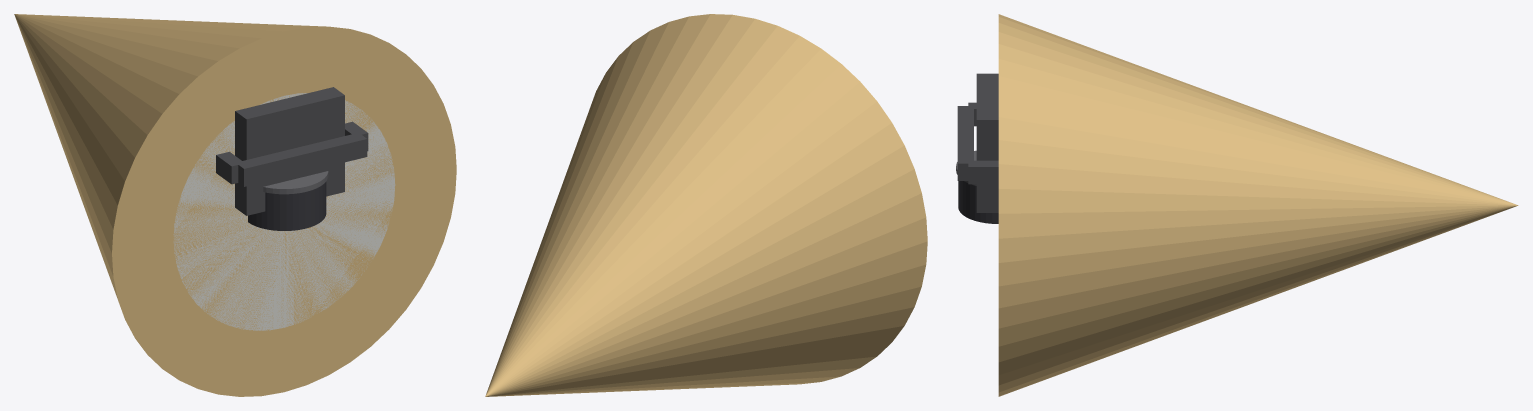
Rendered from moving-head-full.glb.
3 views of the same model, side by side, from view 1: azimuth 30°, elevation 25°; view 2: azimuth 150°, elevation 25°; view 3: azimuth 270°, elevation 25° (orthographic). The views are drawn at different scales.
Visible parts, largest first — view 1: beam_glow, beam, fix_geometry_17, fix_geometry_14, fix_geometry_22, fix_geometry_23, fix_geometry_10; view 2: beam_glow; view 3: beam_glow, fix_geometry_17, fix_geometry_14, fix_geometry_22, fix_geometry_12.
Boxes of the visible parts, x1,y1,x2,y2 form: beam_glow: [14, 14, 456, 396]; beam: [173, 93, 395, 330]; fix_geometry_17: [235, 87, 344, 215]; fix_geometry_14: [238, 133, 367, 186]; fix_geometry_22: [248, 182, 326, 228]; fix_geometry_23: [263, 171, 328, 194]; fix_geometry_10: [216, 151, 244, 184]; beam_glow: [485, 14, 927, 396]; beam_glow: [998, 14, 1518, 396]; fix_geometry_17: [976, 73, 998, 212]; fix_geometry_14: [957, 106, 973, 180]; fix_geometry_22: [958, 181, 998, 221]; fix_geometry_12: [968, 160, 998, 184].
Bounding box in the file's own units: 2.8 × 2.8 × 4.11.
